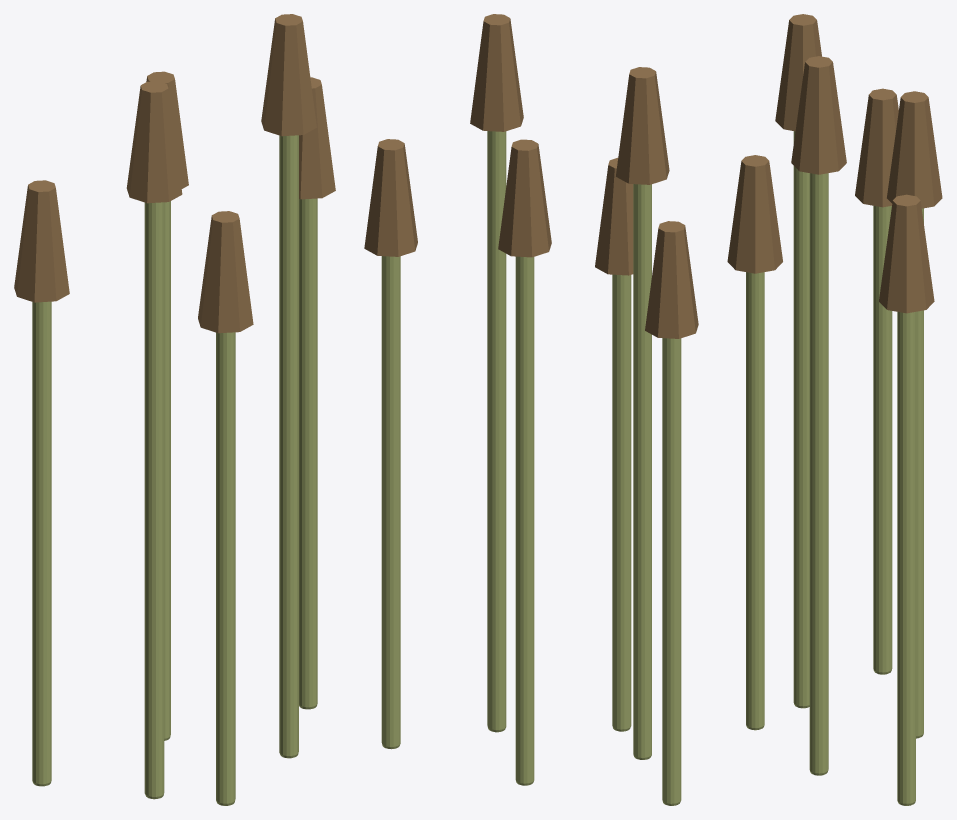
File: prop-reeds.glb
3 renders of one model, left to right at view 1: azimuth 30°, elevation 25°; view 2: azimuth 150°, elevation 25°; view 3: azimuth 270°, elevation 25°, orthographic. The views are drawn at different scales.
Visible parts, largest first — view 1: Reeds, Reed tips; view 2: Reeds, Reed tips; view 3: Reeds, Reed tips.
Boxes of the visible parts, x1,y1,x2,y2 form: Reeds: [32, 135, 317, 805]; Reed tips: [14, 14, 335, 333]; Reeds: [381, 131, 681, 805]; Reed tips: [364, 14, 698, 338]; Reeds: [746, 131, 923, 805]; Reed tips: [727, 14, 942, 313].
Size of the model in its own units: 0.92 by 1.97 by 0.54.
